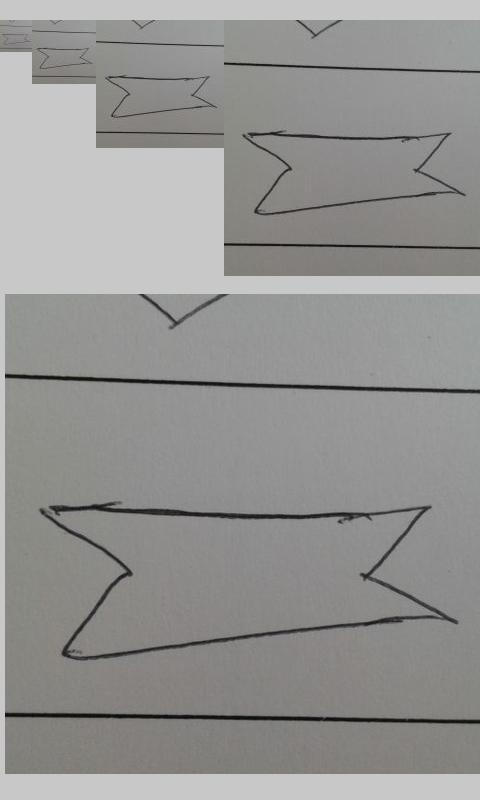edit_text: (37, 502, 457, 663), (241, 131, 468, 216), (104, 75, 217, 118), (36, 47, 91, 69), (1, 33, 30, 45)
